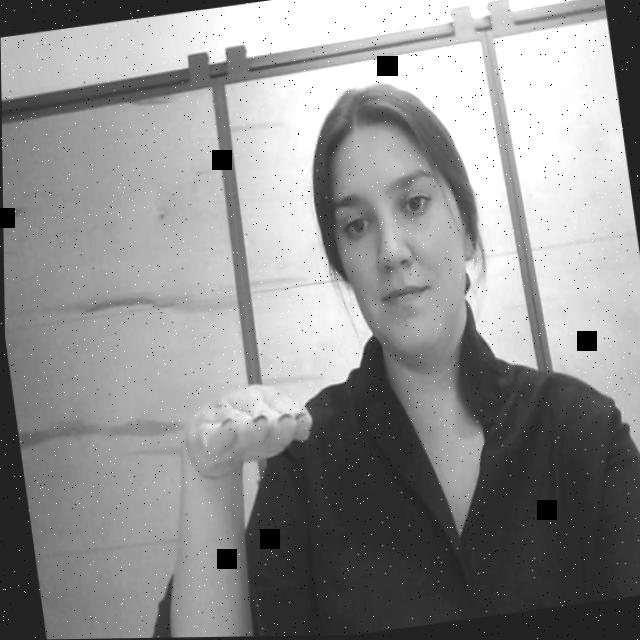Paper: (171, 366, 316, 483)
